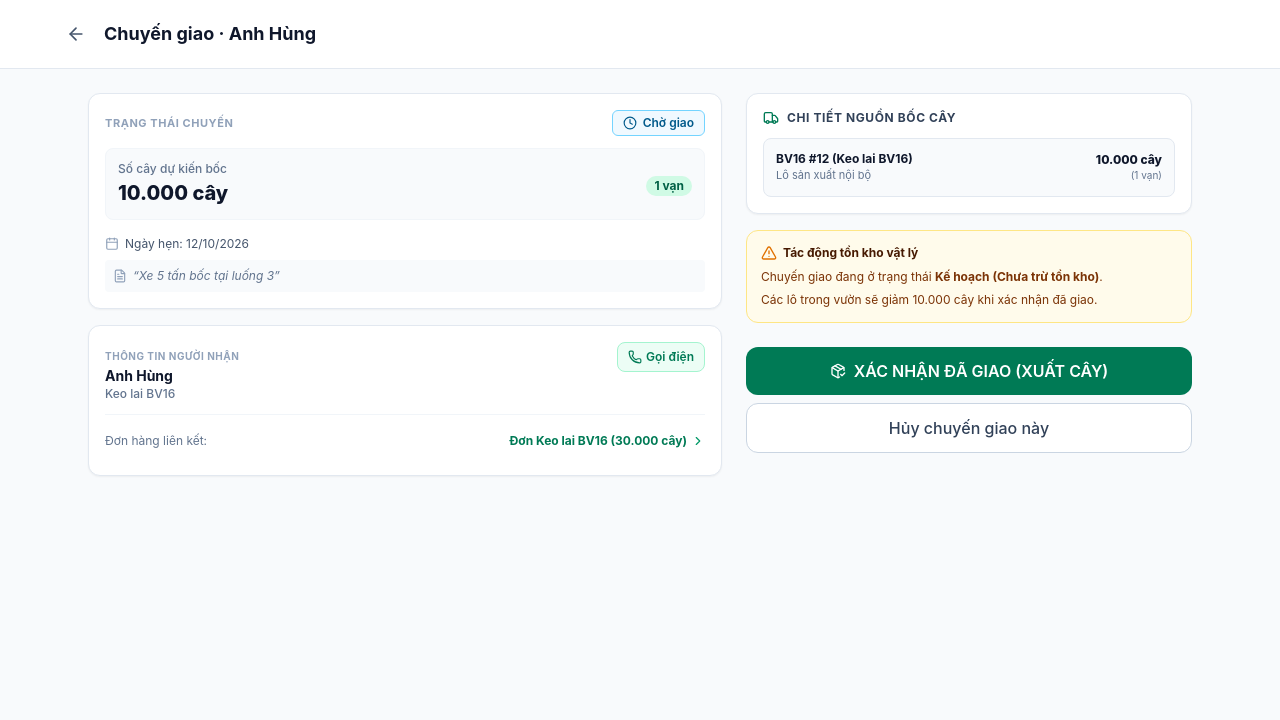
Test: ShipmentDetailScreen › confirms shipment via safety modal and atomically reduces physical stock
Expected: the heading "Anh Hùng" is shown, [105,367,173,384]
// Click confirm button
Click the button "XÁC NHẬN ĐÃ GIAO (XUẤT CÂY)".
click(969, 371)  # box [746,347,1192,395]
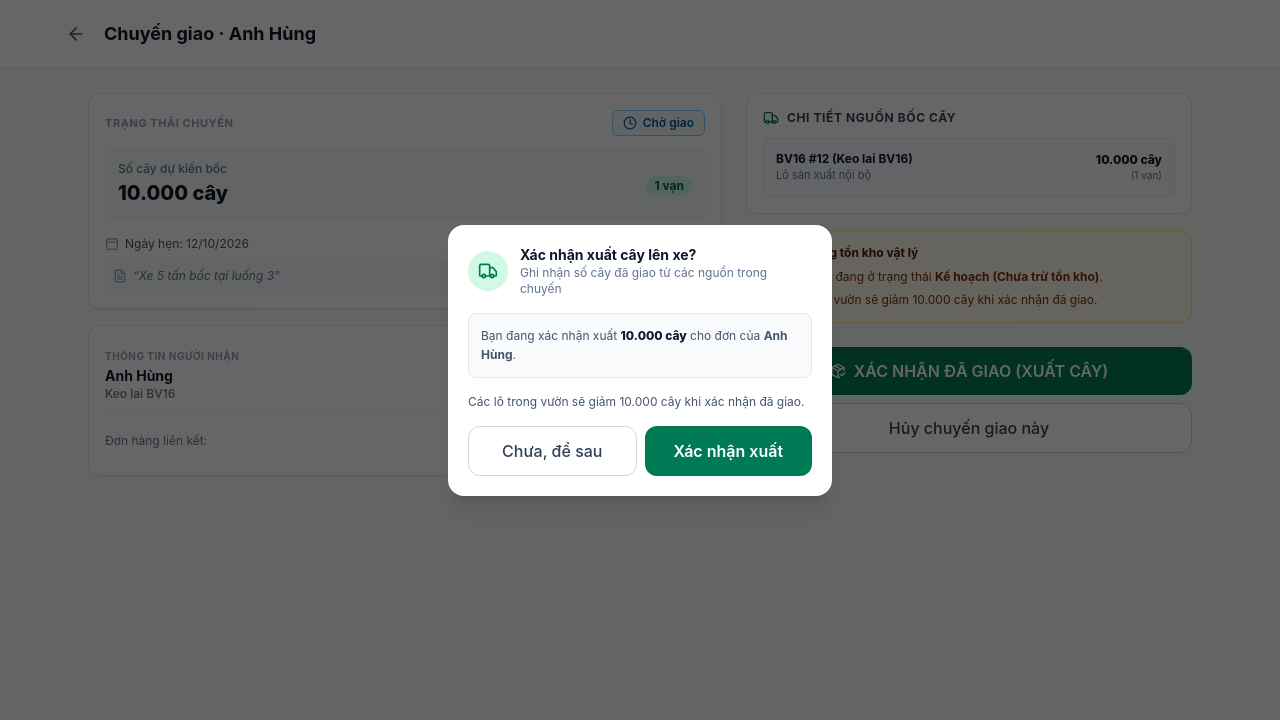
Result: the heading "Xác nhận xuất cây lên xe?" is shown at [520,246,696,262]
// Click "Xác nhận xuất" inside modal
Click the button "Xác nhận xuất".
click(728, 450)  # box [645,426,812,476]
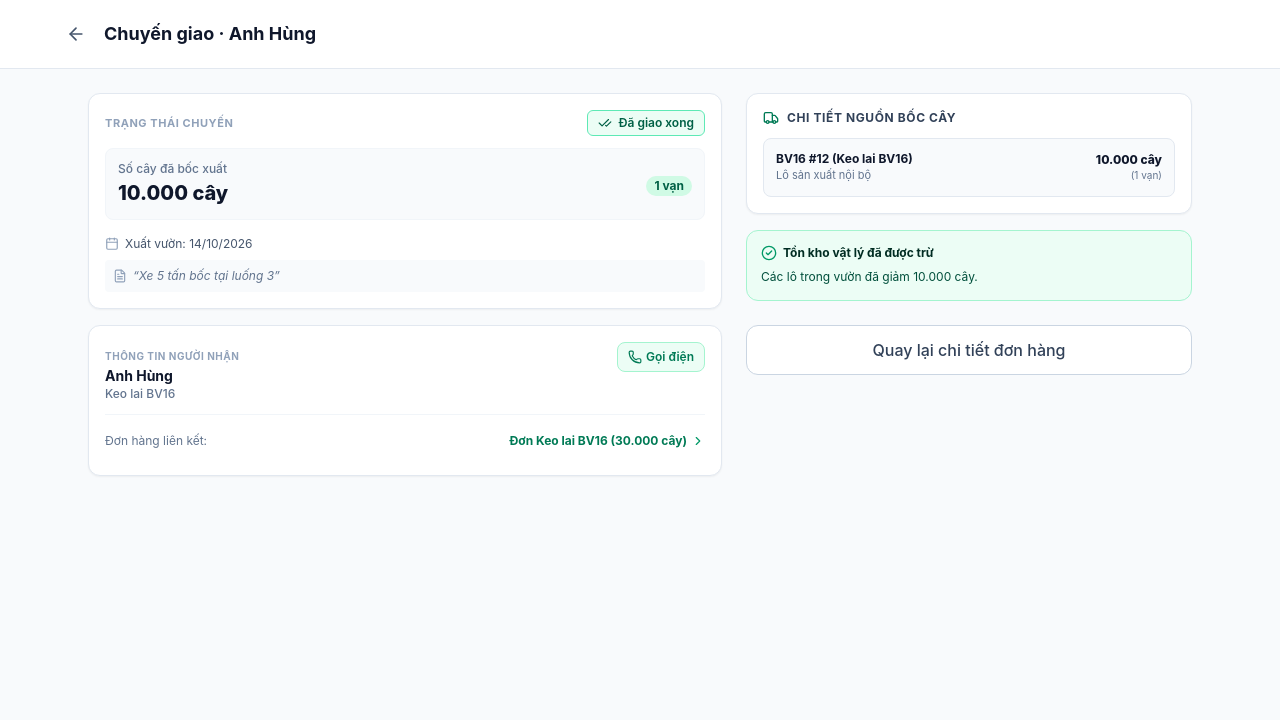
Result: the text "Tồn kho vật lý đã được trừ" is shown at [783,244,934,260]
Result: the text "Đã giao xong" is shown at [618,115,694,131]
